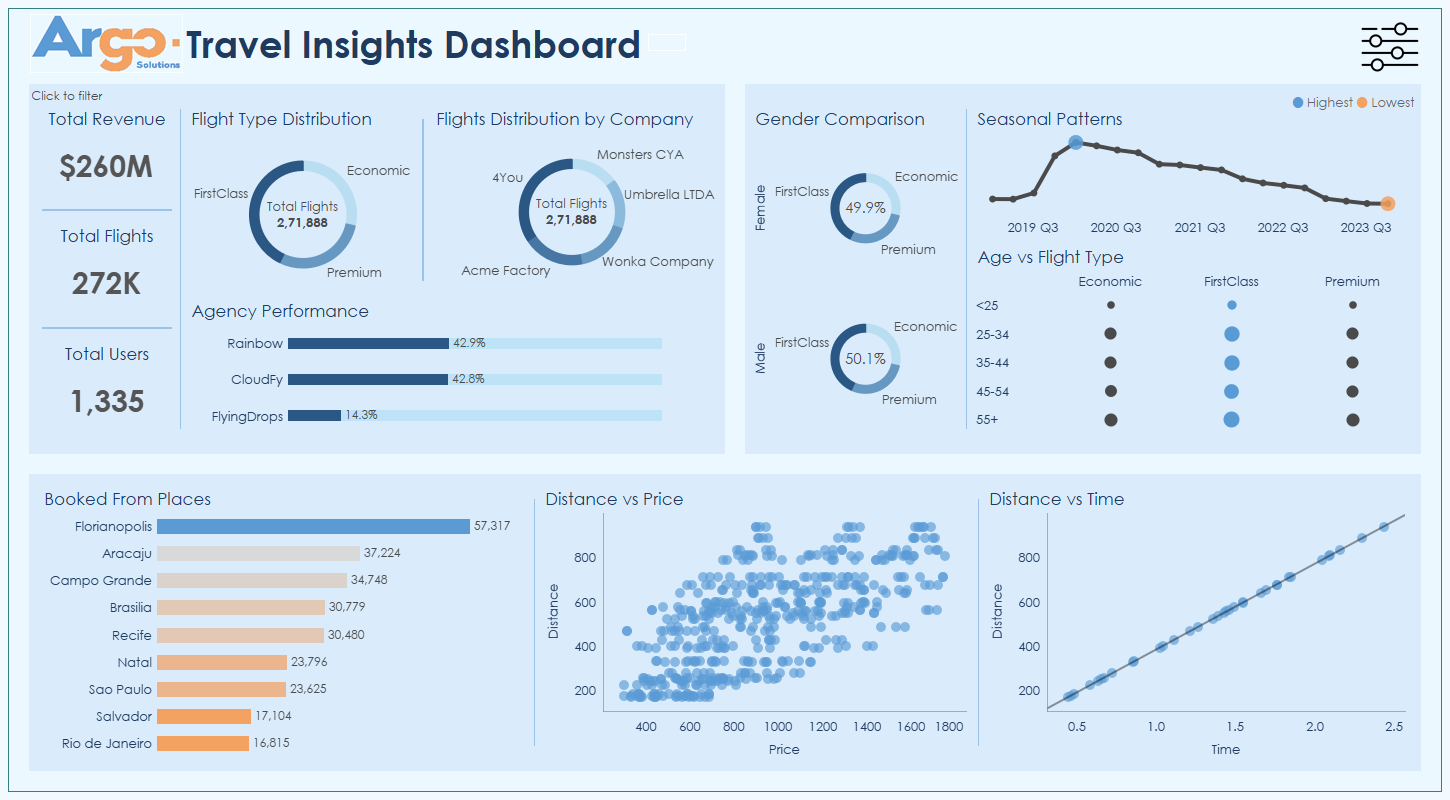

The dashboard page shown, as its layout file describes it:
{"tool":"tableau","page":{"name":"Travel | Flights","canvas":[1450,800],"ordinal":0},"visuals":[{"type":"blank","box":[1206,10,234,71]},{"type":"dashboard-object","box":[29,13,154,61]},{"type":"text","box":[183,13,994,61]},{"type":"dashboard-object","box":[1339,15,102,68]},{"type":"text","box":[9,78,1432,151]},{"type":"text","box":[28,81,100,30]},{"type":"text","box":[1206,81,234,48]},{"type":"blank","box":[180,84,1,370]},{"type":"blank","box":[725,84,20,370]},{"type":"blank","box":[966,84,1,370]},{"type":"text","box":[1289,88,136,30]},{"type":"text","box":[37,104,140,29]},{"type":"text","box":[184,104,238,29]},{"type":"blank","box":[422,104,2,192]},{"type":"text","box":[429,104,293,29]},{"type":"text","box":[748,104,215,29]},{"type":"text","box":[970,104,443,29]},{"type":"filter","title":"From Place Travelled","param":"[federated.06p36x41ym3n0r1c9cwjh08wfxyr].[yr:Date:ok]","box":[1206,129,234,62]},{"type":"worksheet","title":"BAN_Revenue","mark":"Automatic","box":[37,133,140,66.3]},{"type":"worksheet","title":"Flight Type","mark":"Pie","cols":["Calculation_1368812868598452232","Calculation_1368812868598452232"],"box":[184,133,238,163]},{"type":"worksheet","title":"Company vs Flights Booked","mark":"Pie","cols":["Calculation_1368812868598452232","Calculation_1368812868598452232"],"box":[429,133,293,158]},{"type":"worksheet","title":"Gender Comparison","mark":"Pie","rows":["Calculation_1379790393206714368"],"cols":["Calculation_1379790393208012805","Calculation_1379790393208012805"],"box":[748,133,215,301]},{"type":"worksheet","title":"Flights Over Time","mark":"Line","rows":["TravelCode","Calculation_1368812868624355343"],"cols":["Date"],"box":[970,133,443,109]},{"type":"filter","title":"From Place Travelled","param":"[federated.06p36x41ym3n0r1c9cwjh08wfxyr].[none:Calculation_1368812868633571344:n","box":[1206,191,234,62]},{"type":"blank","box":[37,209.3,140,2]},{"type":"text","box":[37,221.3,140,29]},{"type":"blank","box":[9,229,1432,273]},{"type":"text","box":[970,242,443,29]},{"type":"worksheet","title":"BAN_Flights","mark":"Automatic","box":[37,250.3,140,66.3]},{"type":"filter","title":"From Place Travelled","param":"[federated.06p36x41ym3n0r1c9cwjh08wfxyr].[none:Calculation_1379790393206714368:n","box":[1206,253,234,79]},{"type":"worksheet","title":"Age vs Flight Type","mark":"Circle","rows":["Calculation_1368812868633571344"],"cols":["FlightType"],"box":[970,271,443,163]},{"type":"text","box":[184,296,538,29]},{"type":"worksheet","title":"Agency Type","mark":"Bar","rows":["Agency"],"cols":["Calculation_1368812868613259276"],"box":[184,325,538,109]},{"type":"blank","box":[37,326.7,140,2]},{"type":"filter","title":"From Place Travelled","param":"[federated.06p36x41ym3n0r1c9cwjh08wfxyr].[none:FlightType:nk]","box":[1206,332,234,101]},{"type":"text","box":[37,338.7,140,29]},{"type":"worksheet","title":"BAN_Users","mark":"Automatic","box":[37,367.7,140,66.3]},{"type":"filter","title":"From Place Travelled","param":"[federated.06p36x41ym3n0r1c9cwjh08wfxyr].[none:Agency:nk]","box":[1206,433,234,103]},{"type":"blank","box":[534,474,1,297]},{"type":"blank","box":[977.5,474,1,297]},{"type":"text","box":[37,484,494,29]},{"type":"text","box":[538,484,436.5,29]},{"type":"text","box":[981.5,484,431.5,29]},{"type":"worksheet","title":"From Place Travelled","mark":"Bar","rows":["From"],"cols":["TravelCode"],"box":[37,513,494,243.9]},{"type":"worksheet","title":"Distance vs Price","mark":"Circle","rows":["Distance"],"cols":["Price"],"box":[538,513,436.5,251]},{"type":"worksheet","title":"Distance vs time","mark":"Circle","rows":["Distance"],"cols":["Time"],"box":[981.5,513,431.5,251]},{"type":"filter","title":"From Place Travelled","param":"[federated.06p36x41ym3n0r1c9cwjh08wfxyr].[none:From:nk]","box":[1206,536,234,62]},{"type":"filter","title":"From Place Travelled","param":"[federated.06p36x41ym3n0r1c9cwjh08wfxyr].[none:Company:nk]","box":[1206,598,234,62]}]}

Visuals, with their boxes in screenshot pixels (x1, y1, x2, y2), scaled from the page's 1450x800 canvas onto the 1450x800 screenshot:
blank: box(1206, 10, 1440, 81)
dashboard-object: box(29, 13, 183, 74)
text: box(183, 13, 1177, 74)
dashboard-object: box(1339, 15, 1441, 83)
text: box(9, 78, 1441, 229)
text: box(28, 81, 128, 111)
text: box(1206, 81, 1440, 129)
blank: box(180, 84, 181, 454)
blank: box(725, 84, 745, 454)
blank: box(966, 84, 967, 454)
text: box(1289, 88, 1425, 118)
text: box(37, 104, 177, 133)
text: box(184, 104, 422, 133)
blank: box(422, 104, 424, 296)
text: box(429, 104, 722, 133)
text: box(748, 104, 963, 133)
text: box(970, 104, 1413, 133)
"From Place Travelled" filter: box(1206, 129, 1440, 191)
"BAN_Revenue" worksheet: box(37, 133, 177, 199)
"Flight Type" worksheet (Pie marks): box(184, 133, 422, 296)
"Company vs Flights Booked" worksheet (Pie marks): box(429, 133, 722, 291)
"Gender Comparison" worksheet (Pie marks): box(748, 133, 963, 434)
"Flights Over Time" worksheet (Line marks): box(970, 133, 1413, 242)
"From Place Travelled" filter: box(1206, 191, 1440, 253)
blank: box(37, 209, 177, 211)
text: box(37, 221, 177, 250)
blank: box(9, 229, 1441, 502)
text: box(970, 242, 1413, 271)
"BAN_Flights" worksheet: box(37, 250, 177, 317)
"From Place Travelled" filter: box(1206, 253, 1440, 332)
"Age vs Flight Type" worksheet (Circle marks): box(970, 271, 1413, 434)
text: box(184, 296, 722, 325)
"Agency Type" worksheet (Bar marks): box(184, 325, 722, 434)
blank: box(37, 327, 177, 329)
"From Place Travelled" filter: box(1206, 332, 1440, 433)
text: box(37, 339, 177, 368)
"BAN_Users" worksheet: box(37, 368, 177, 434)
"From Place Travelled" filter: box(1206, 433, 1440, 536)
blank: box(534, 474, 535, 771)
text: box(37, 484, 531, 513)
text: box(538, 484, 974, 513)
text: box(982, 484, 1413, 513)
"From Place Travelled" worksheet (Bar marks): box(37, 513, 531, 757)
"Distance vs Price" worksheet (Circle marks): box(538, 513, 974, 764)
"Distance vs time" worksheet (Circle marks): box(982, 513, 1413, 764)
"From Place Travelled" filter: box(1206, 536, 1440, 598)
"From Place Travelled" filter: box(1206, 598, 1440, 660)
